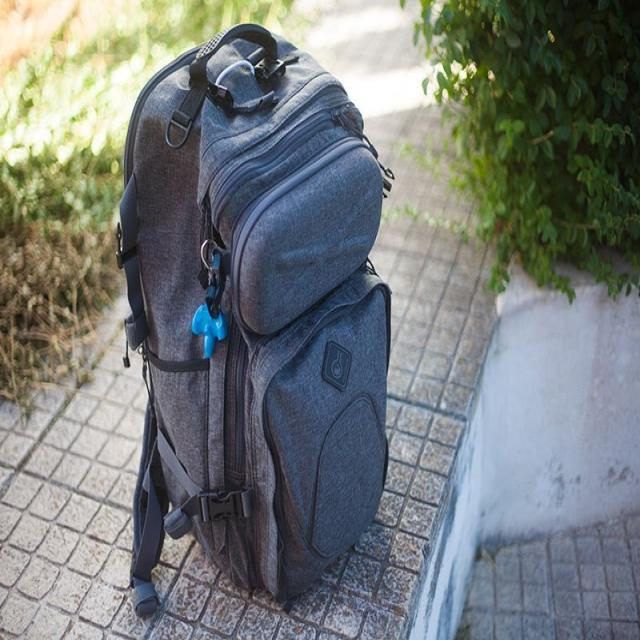Backpacks: (118, 26, 392, 608)
